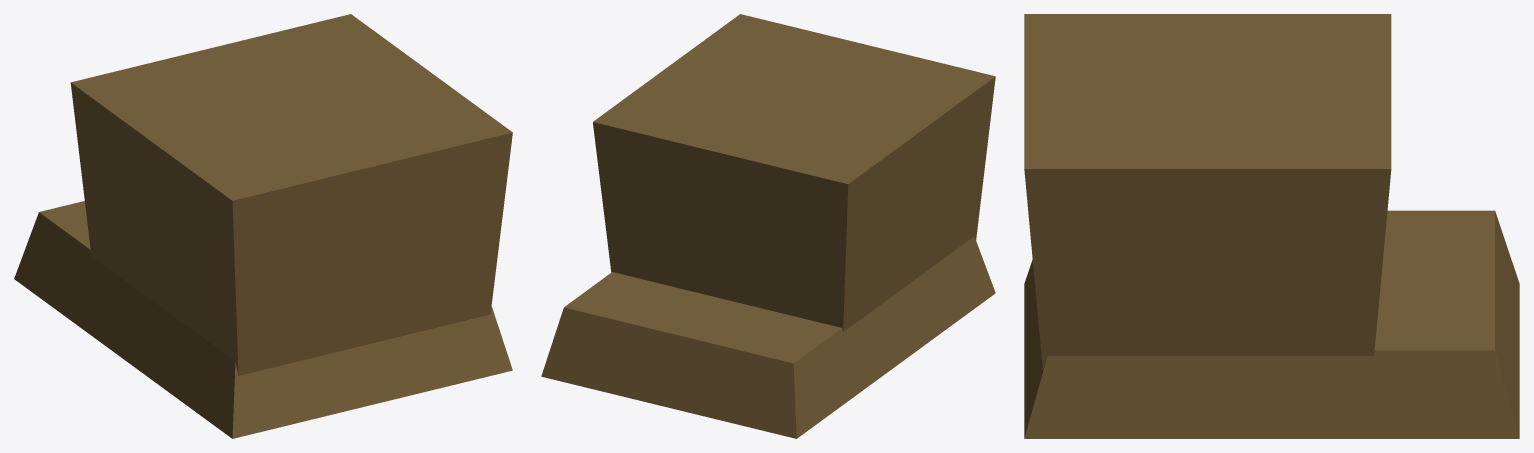
File: animal_dryad_woodmaker_leg.obj
3 views of the same model, side by side, from view 1: azimuth 30°, elevation 25°; view 2: azimuth 150°, elevation 25°; view 3: azimuth 270°, elevation 25° (orthographic). The views are drawn at different scales.
Parts seen in each view (by area): view 1: animal_dryad_woodmaker_leg; view 2: animal_dryad_woodmaker_leg; view 3: animal_dryad_woodmaker_leg.
Part boxes in pixels (<box>): animal_dryad_woodmaker_leg: <box>14,14,512,438</box>; animal_dryad_woodmaker_leg: <box>541,14,995,438</box>; animal_dryad_woodmaker_leg: <box>1024,14,1519,438</box>.
Size of the model in its own units: 0.1256 by 0.1019 by 0.1695.
